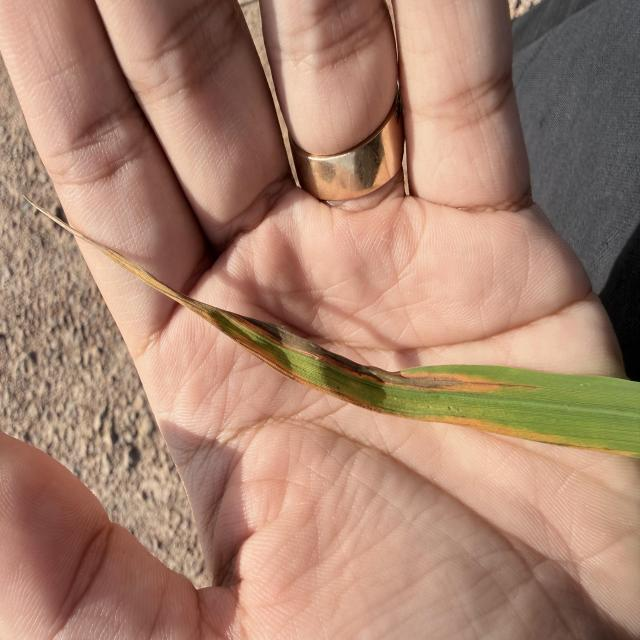Chay bia la: (23, 198, 569, 446)
